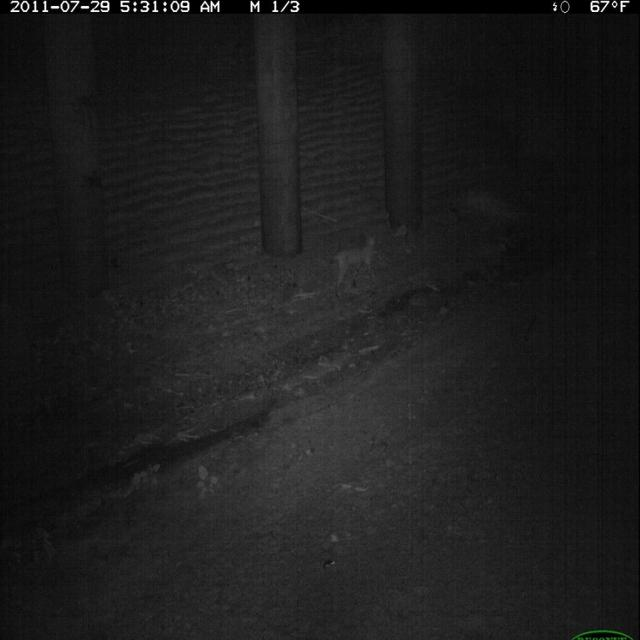bobcat: (327, 226, 385, 306)
